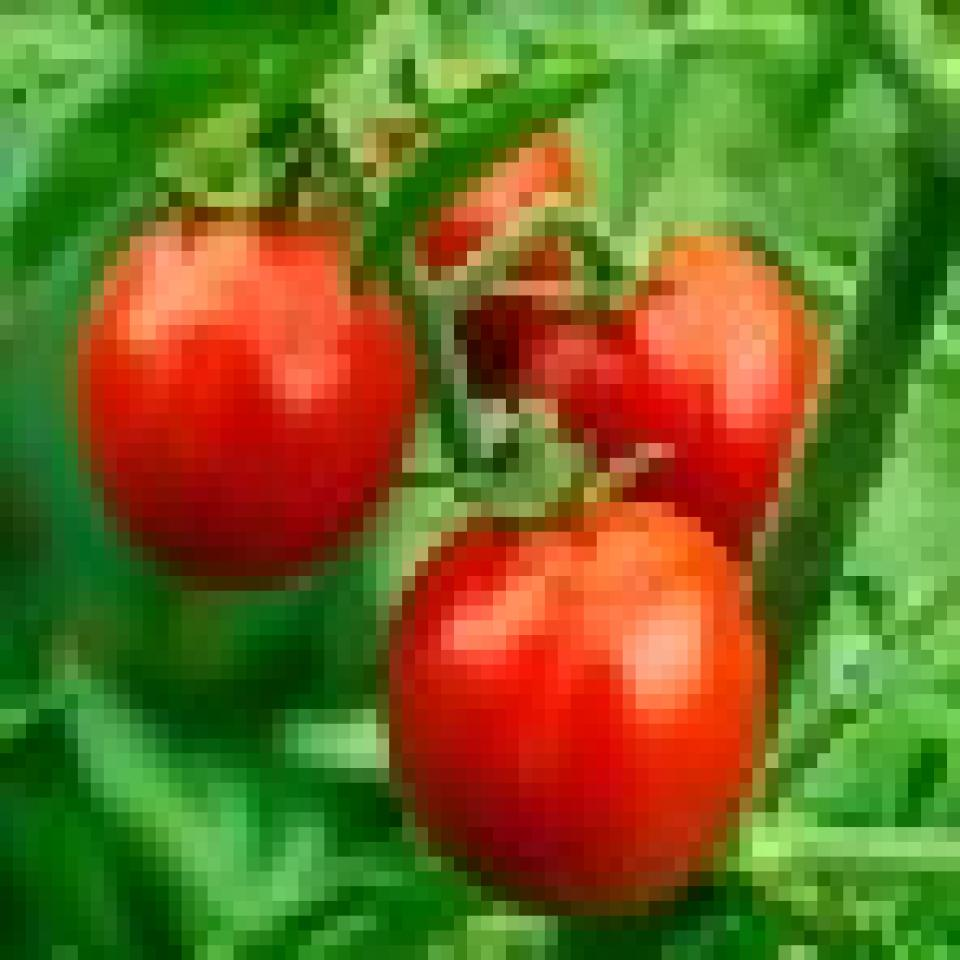Healthy: (358, 471, 779, 916), (92, 186, 463, 528), (519, 215, 827, 523)
